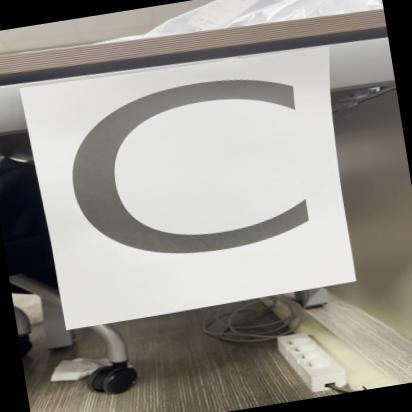seat: (18, 36, 357, 328)
